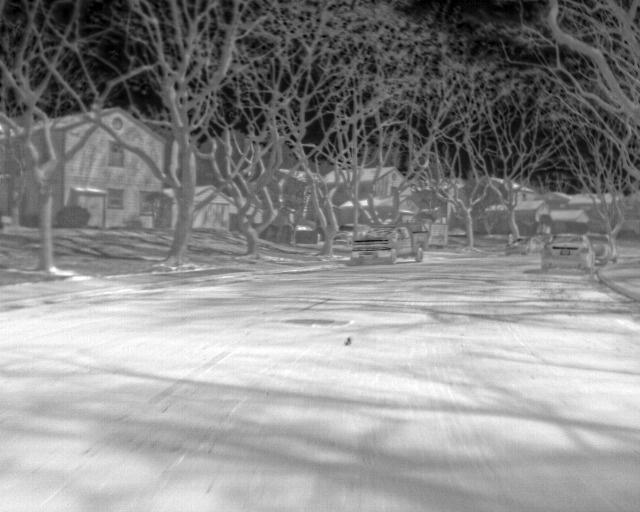car: (540, 232, 592, 275), (581, 233, 617, 269), (334, 222, 371, 243), (507, 235, 537, 257)
